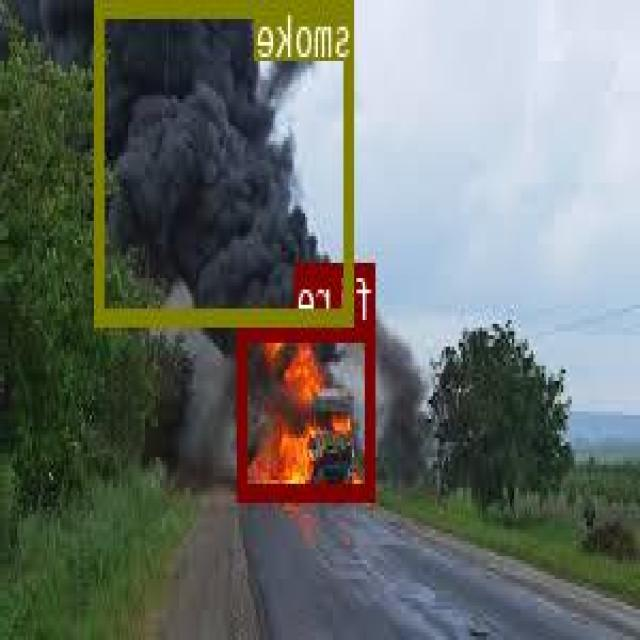fire: (239, 321, 376, 497)
smoke: (97, 0, 355, 324)
